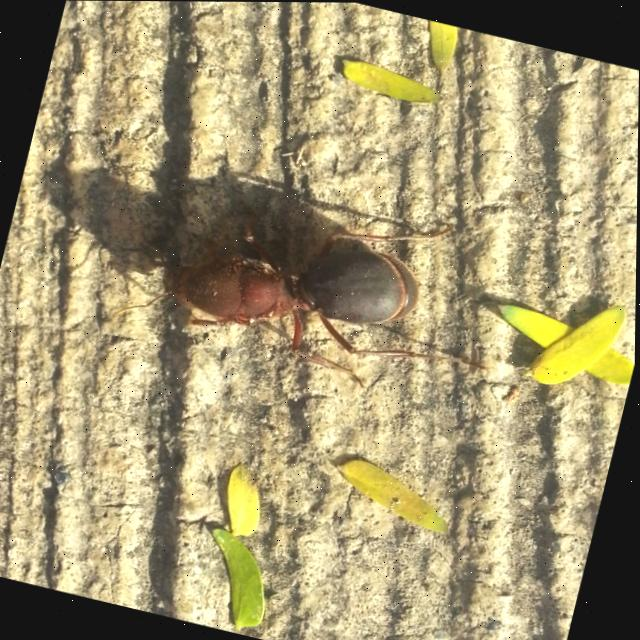Alive-Female-Dealate: (107, 152, 520, 410)
